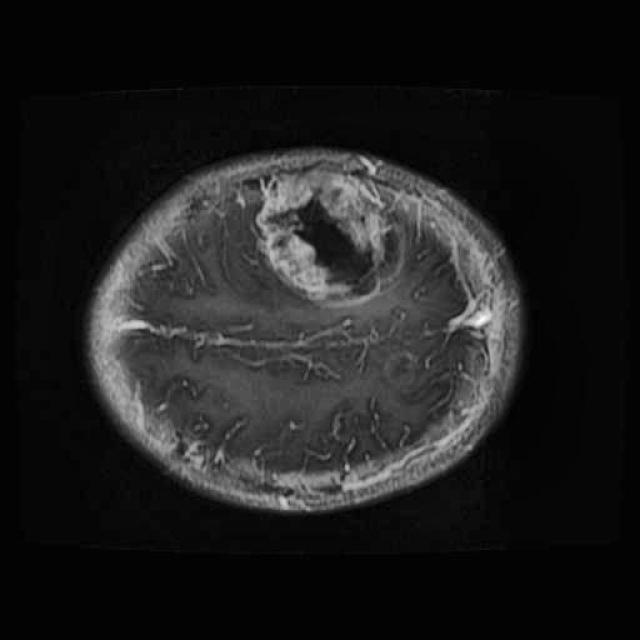Non-Tumor: (241, 156, 419, 315)
